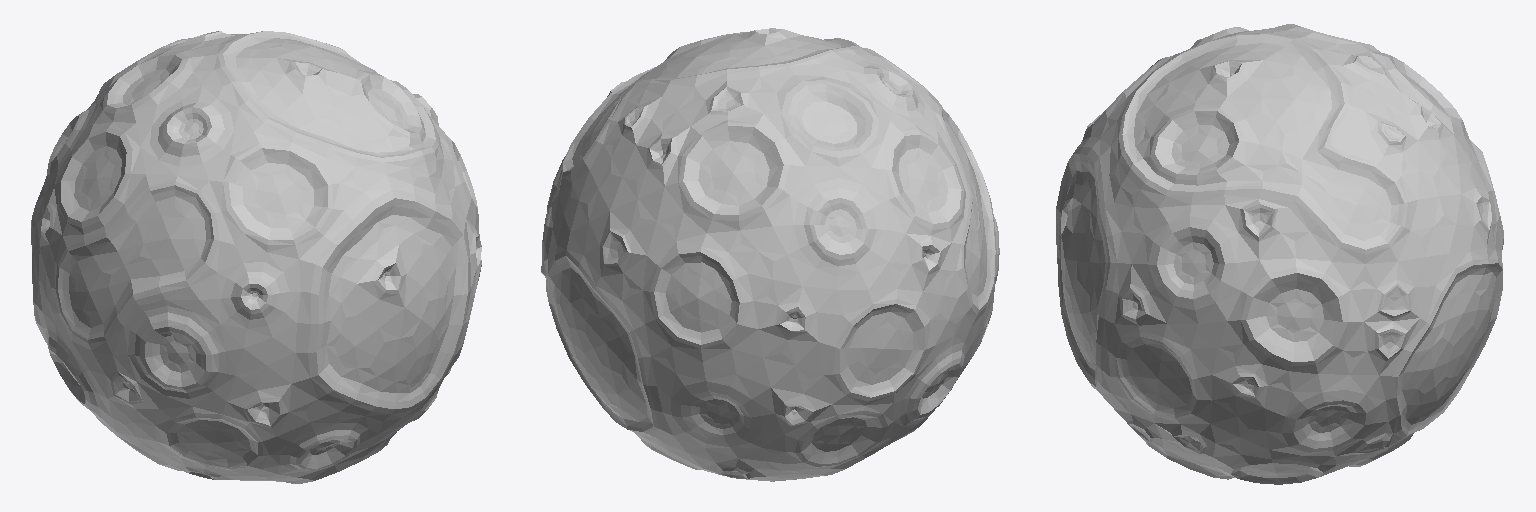
3 views of the same model, side by side, from view 1: azimuth 30°, elevation 25°; view 2: azimuth 150°, elevation 25°; view 3: azimuth 270°, elevation 25° (orthographic).
Visible parts, largest first — view 1: 1226_Moon; view 2: 1226_Moon; view 3: 1226_Moon.
Boxes of the visible parts, <box> form: 1226_Moon: <box>31,31,481,483</box>; 1226_Moon: <box>541,28,999,481</box>; 1226_Moon: <box>1056,24,1503,484</box>.
Bounding box in the file's own units: 0.7859 × 0.7681 × 0.7654.